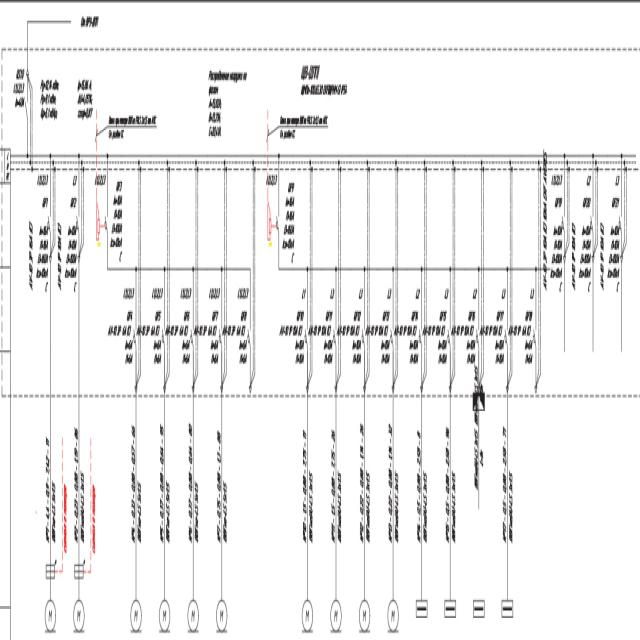-: (542, 148, 564, 294), (571, 219, 591, 295), (600, 221, 620, 296), (57, 222, 77, 296), (29, 220, 49, 294), (308, 321, 335, 366), (421, 321, 448, 366), (507, 322, 533, 367), (165, 321, 191, 366), (136, 322, 162, 367), (365, 321, 391, 366), (451, 321, 477, 366), (393, 322, 419, 367), (193, 322, 219, 367), (107, 322, 133, 367), (278, 322, 304, 367), (222, 324, 248, 368), (337, 323, 363, 367), (479, 321, 505, 365), (110, 193, 124, 267), (281, 193, 295, 265), (300, 82, 348, 98), (11, 80, 25, 109)
ITU: (268, 215, 272, 237), (97, 215, 101, 237)
QF: (46, 204, 52, 236), (75, 207, 81, 238), (561, 207, 567, 238), (103, 210, 109, 238), (618, 211, 624, 235), (332, 325, 338, 349), (246, 325, 252, 349), (474, 325, 480, 348), (446, 325, 452, 348), (160, 324, 166, 347), (533, 323, 538, 347), (390, 325, 395, 349), (275, 211, 280, 235), (132, 325, 137, 349), (418, 325, 423, 348), (304, 325, 308, 349), (190, 325, 194, 349), (590, 211, 594, 234), (504, 325, 508, 348), (362, 324, 366, 347), (218, 326, 222, 349)
QS: (24, 94, 30, 125)
